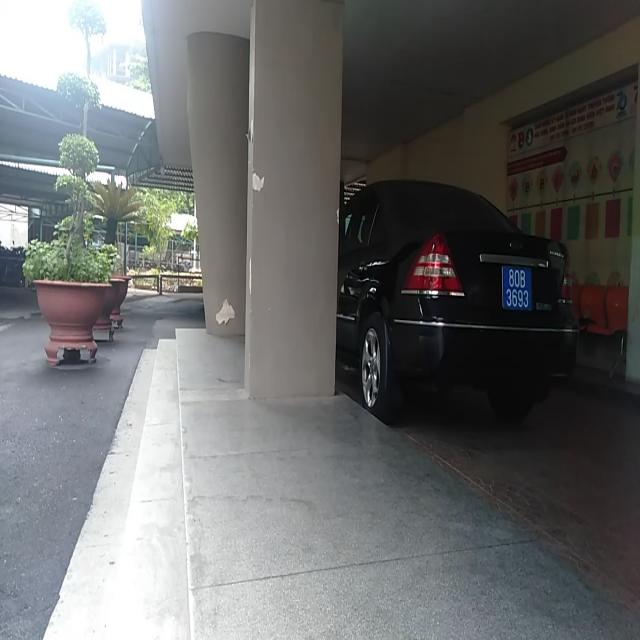bien_xanh: (503, 261, 535, 322)
